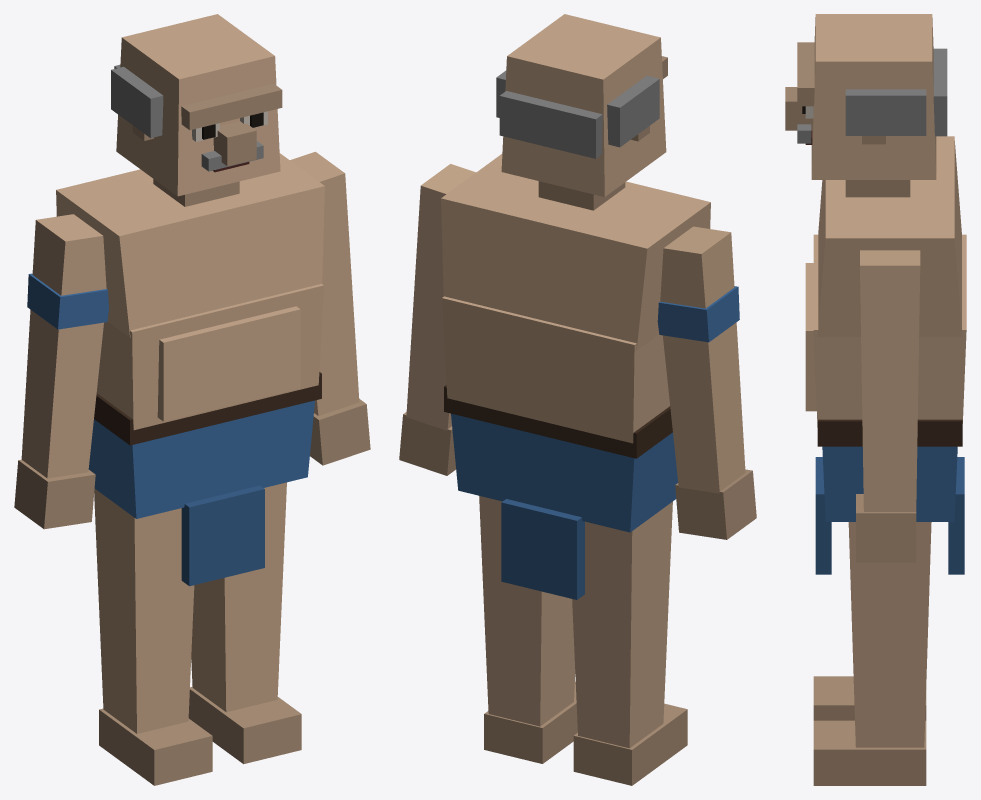
File: fighter_B4.glb
The picture shows the model from 3 angles, left to right: view 1: azimuth 30°, elevation 25°; view 2: azimuth 150°, elevation 25°; view 3: azimuth 270°, elevation 25°; orthographic projection.
Visible parts, largest first — view 1: torso, hips, head, leg_R, arm_R, leg_L, arm_L; view 2: torso, hips, head, leg_R, arm_R, leg_L, arm_L; view 3: torso, head, leg_L, arm_L, hips, leg_R.
Part boxes in pixels (x1,y1,x2,y2): torso: (56, 153, 324, 430); hips: (88, 372, 321, 586); head: (111, 14, 282, 206); leg_R: (94, 489, 212, 785); arm_R: (14, 214, 108, 529); leg_L: (188, 482, 301, 764); arm_L: (290, 151, 370, 465); torso: (441, 154, 710, 443); hips: (444, 385, 678, 599); head: (496, 14, 667, 210); leg_R: (572, 501, 687, 785); arm_R: (657, 226, 756, 539); leg_L: (479, 496, 577, 763); arm_L: (399, 164, 475, 475); torso: (805, 136, 966, 427); head: (785, 14, 947, 197); leg_L: (813, 522, 931, 785); arm_L: (856, 250, 920, 562); hips: (815, 419, 964, 574); leg_R: (813, 676, 926, 720).
Bounding box in the file's own units: 0.9528 × 1.95 × 0.45.
